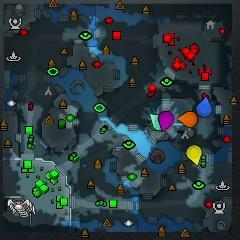p1: (197, 97, 212, 117)
p2: (150, 113, 162, 130)
p3: (158, 111, 174, 131)
p4: (186, 145, 202, 166)
p5: (177, 111, 198, 127)
